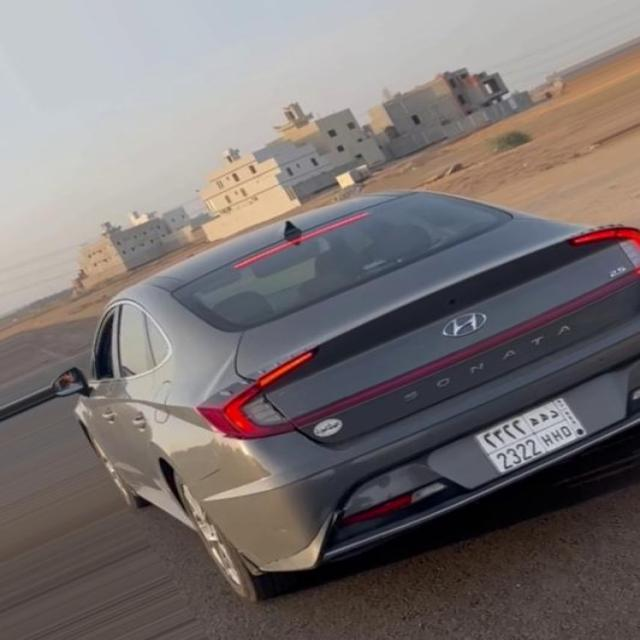Car-plate: (463, 385, 610, 485)
